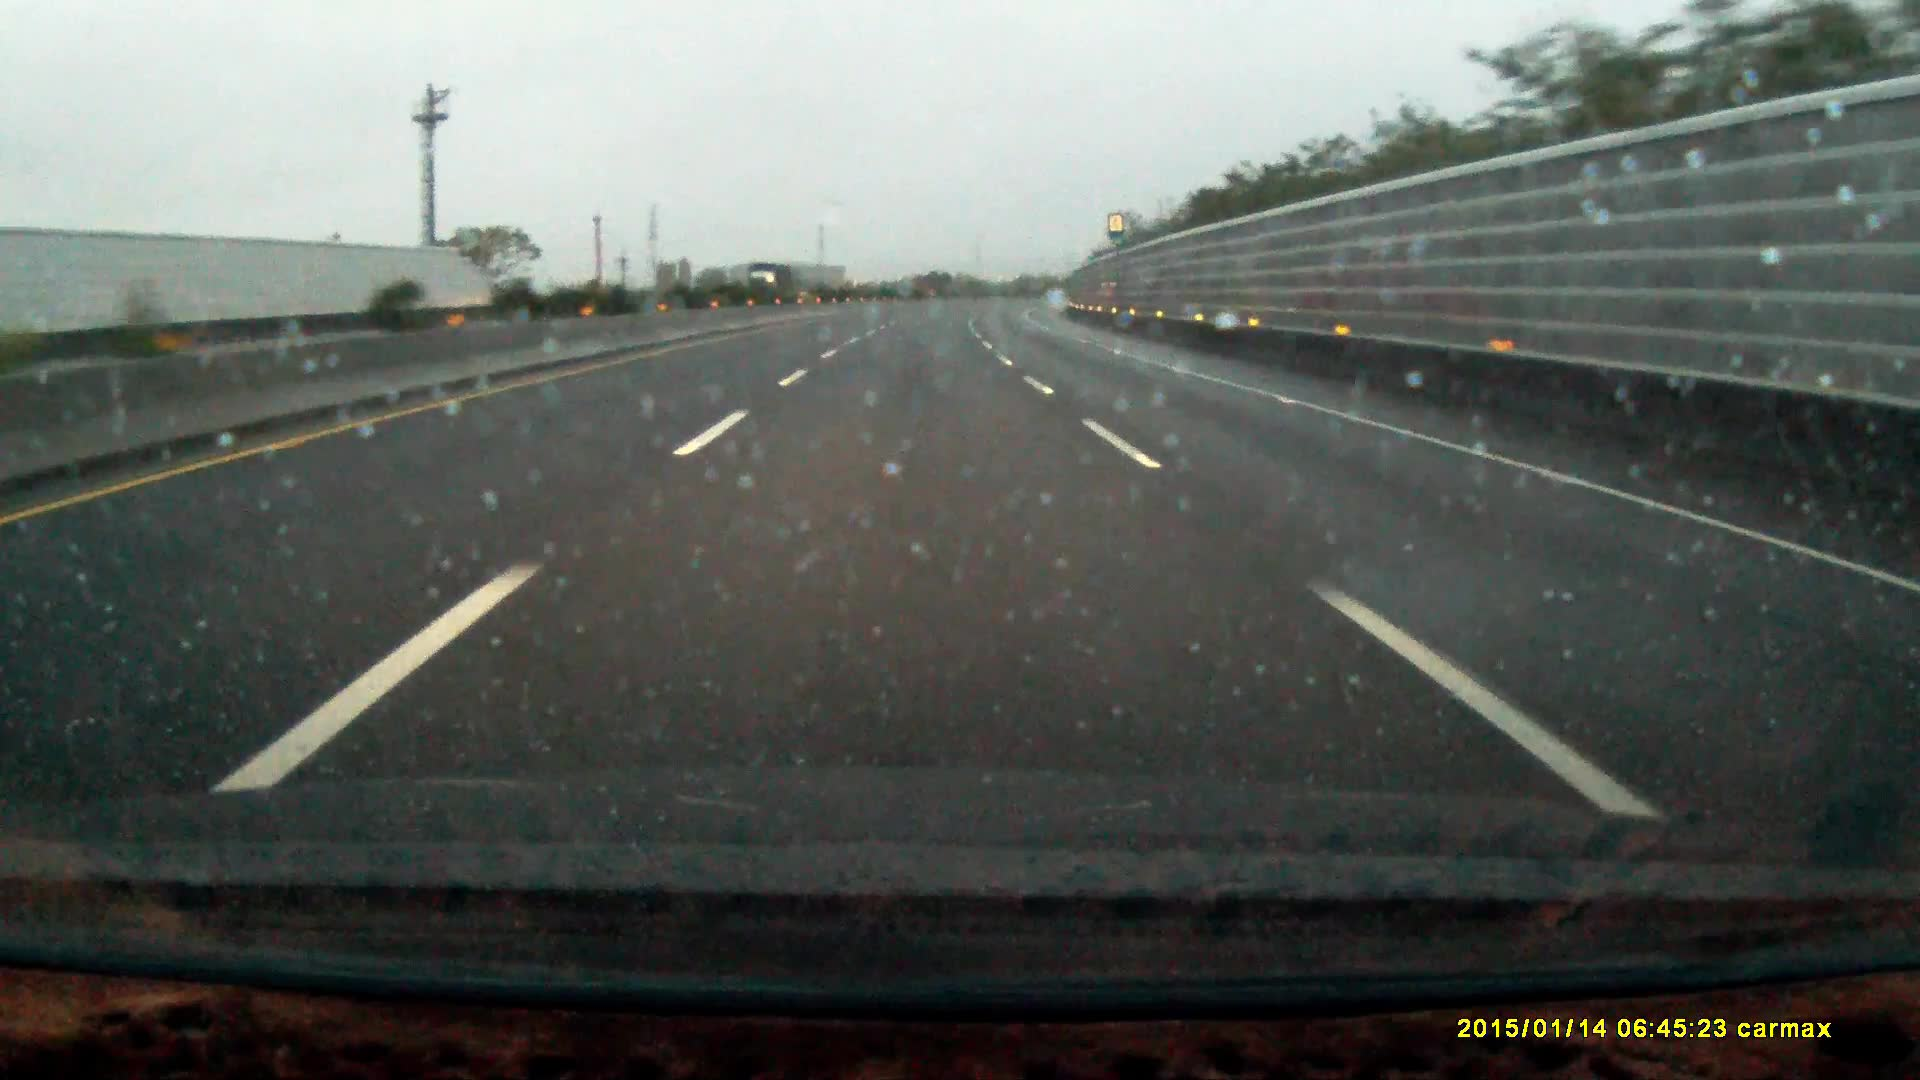vehicle: (746, 266, 796, 302)
